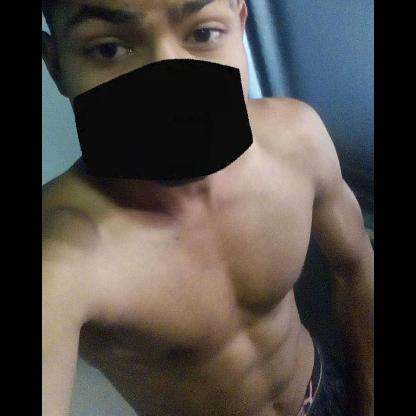Fabric/Cloth Mask: (54, 1, 256, 180)
